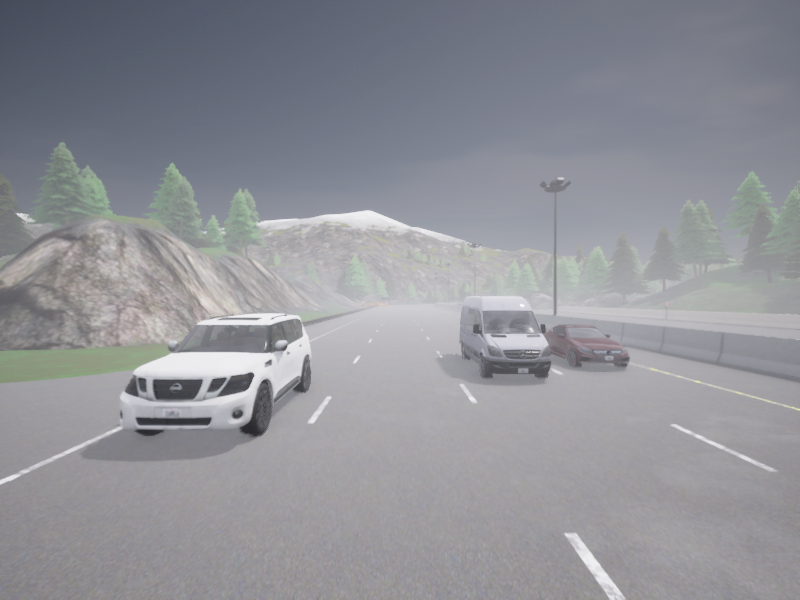vehicle: (119, 314, 311, 435), (459, 296, 550, 377), (543, 323, 629, 367), (455, 303, 462, 305)
